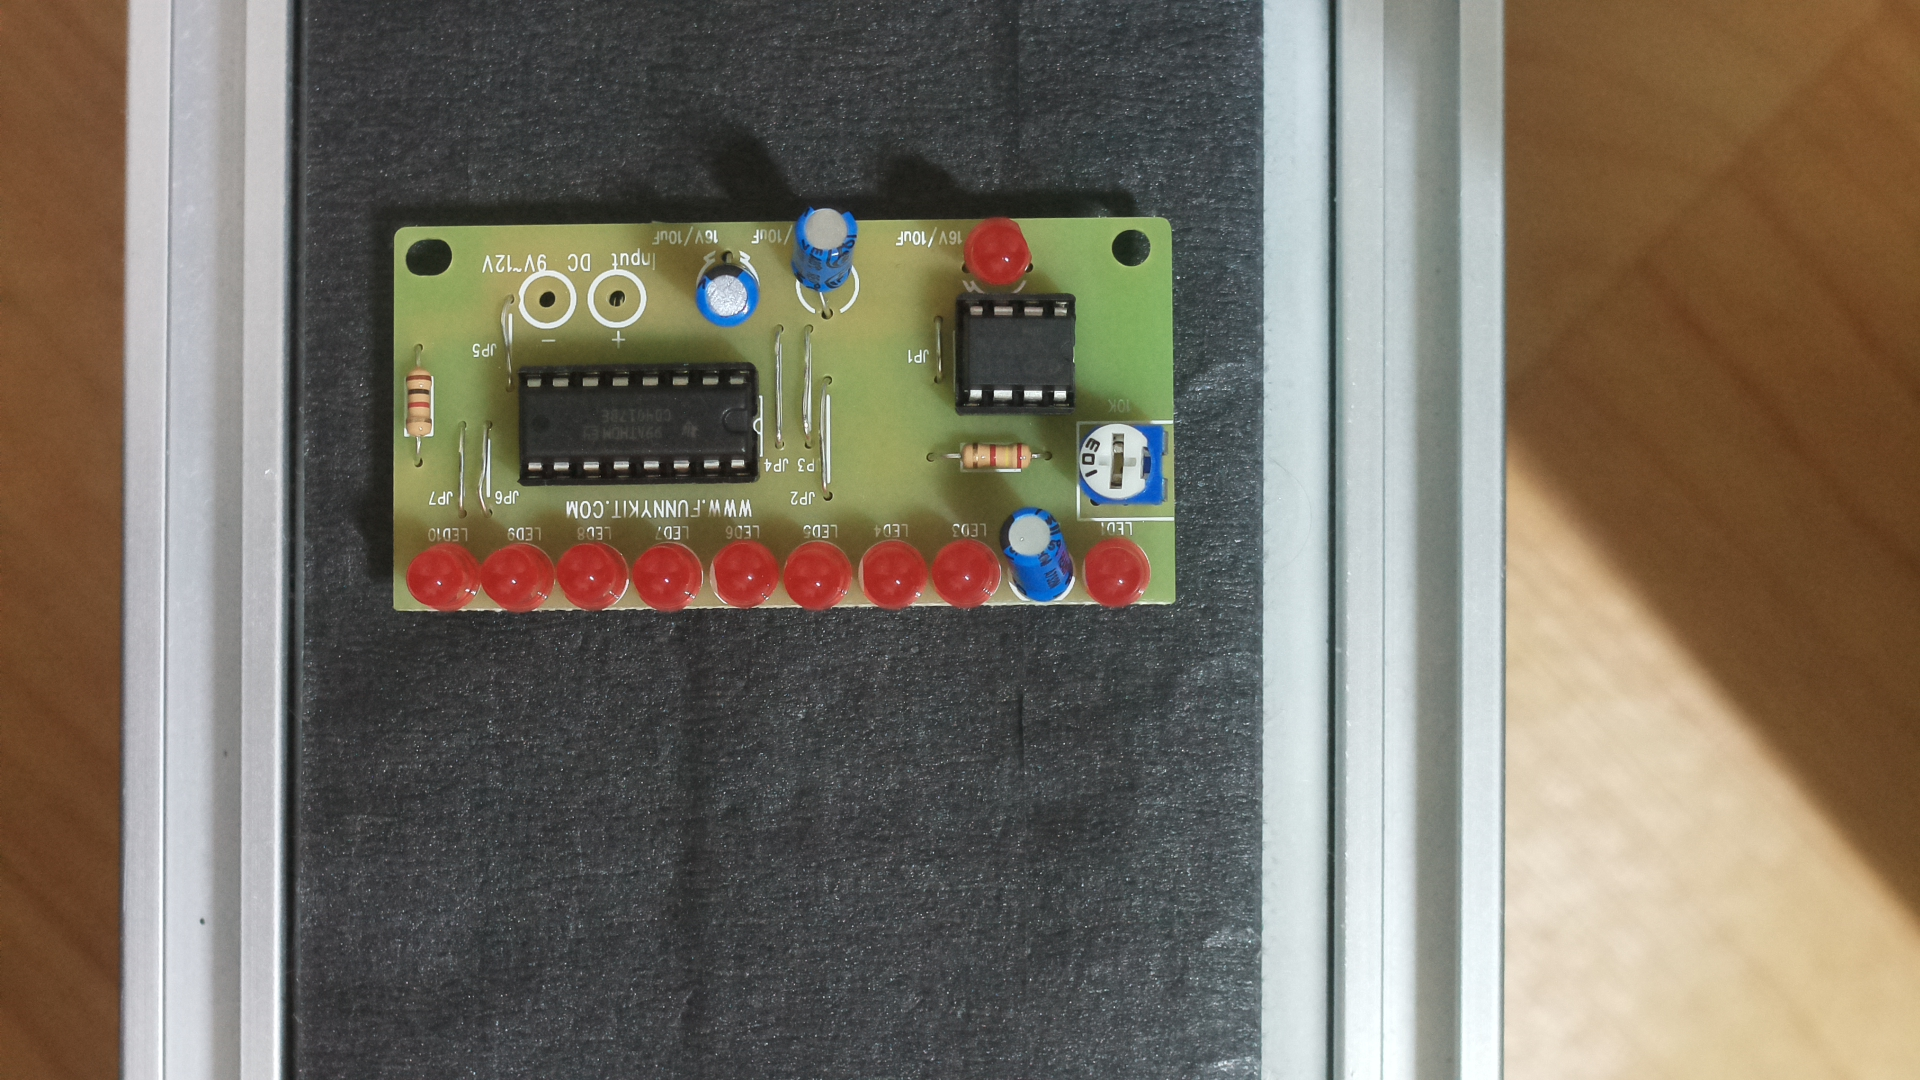B_Misordered: (375, 196, 1200, 647)
